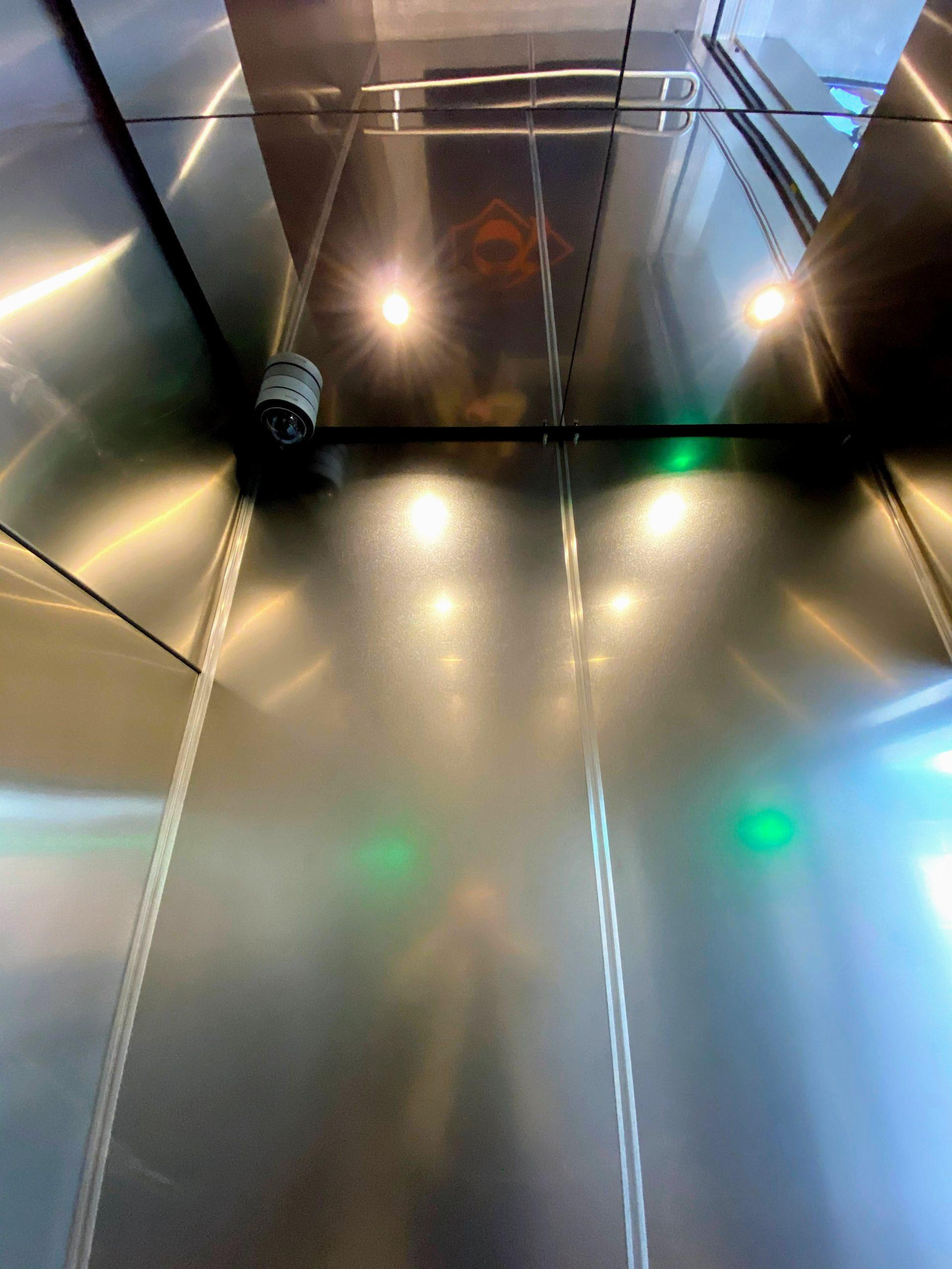CCTV: (253, 351, 346, 498)
